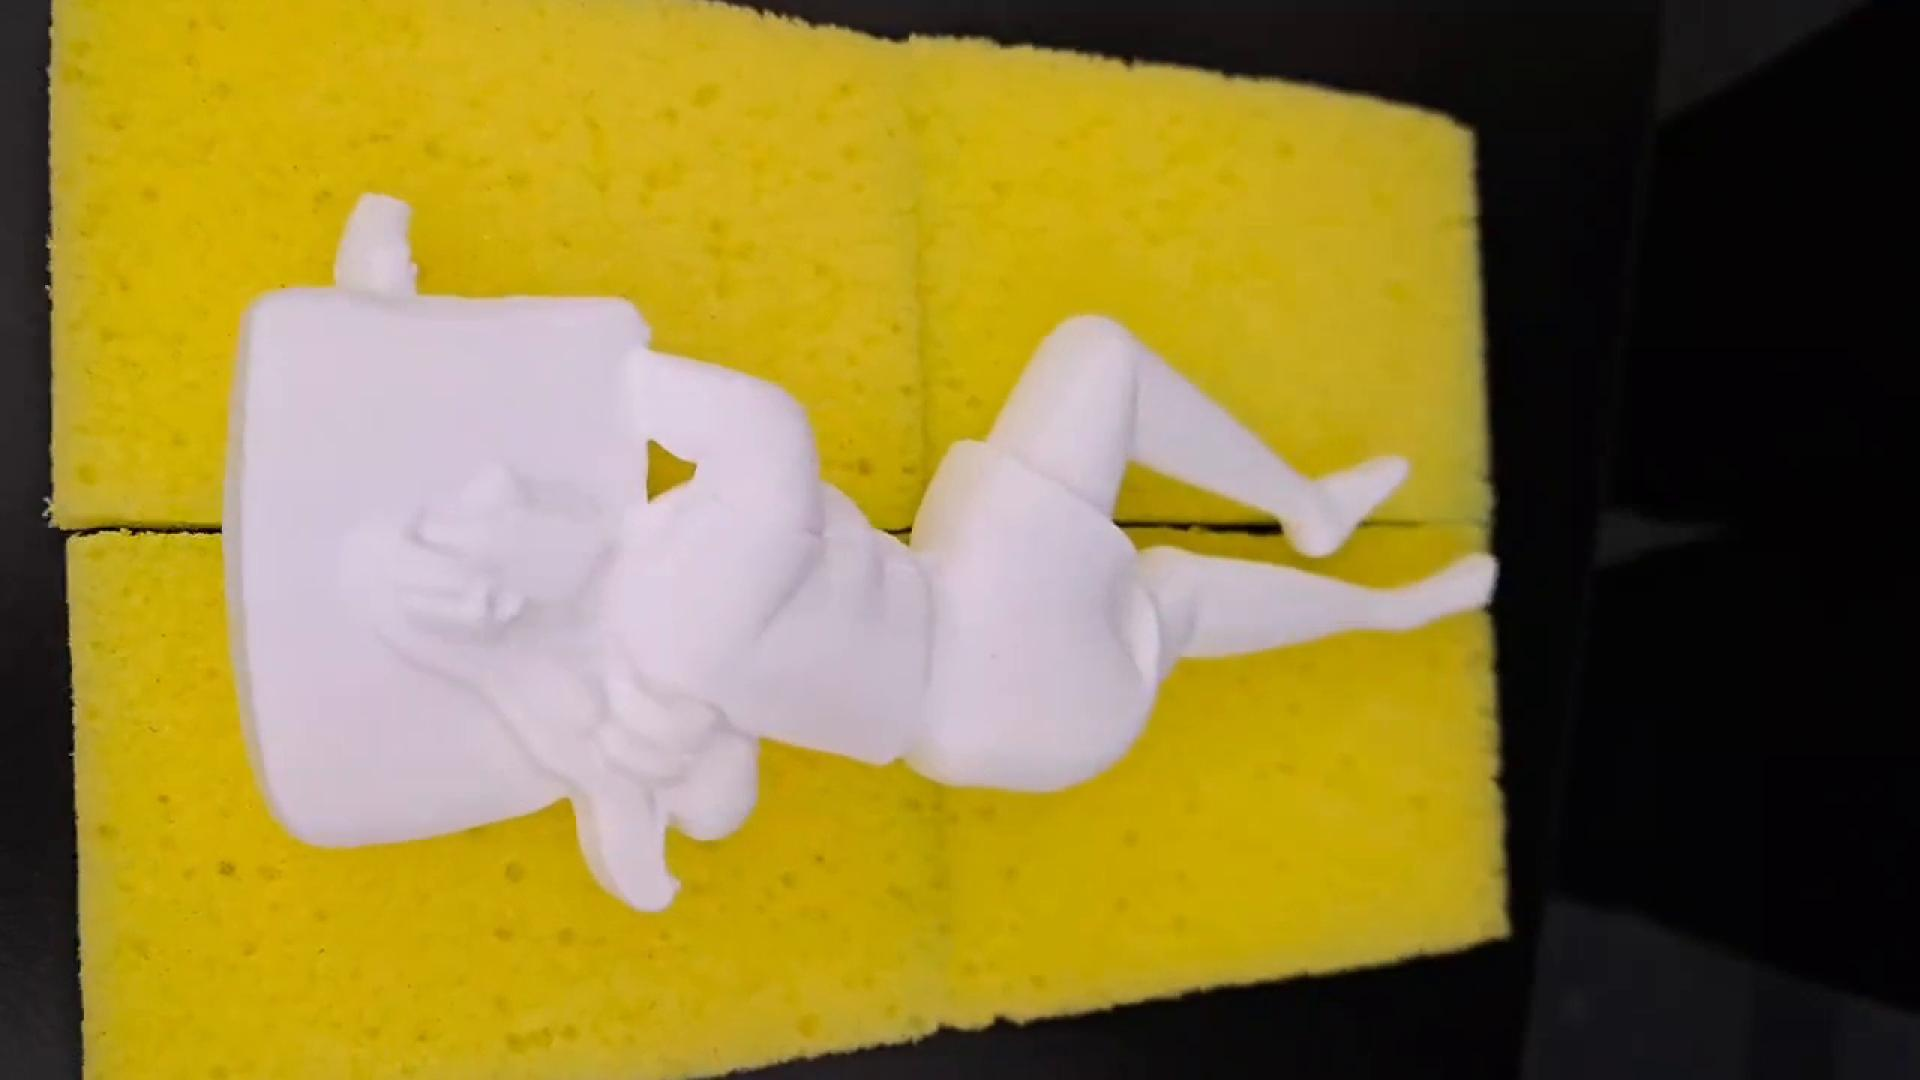Good-style: (142, 187, 1526, 934)
